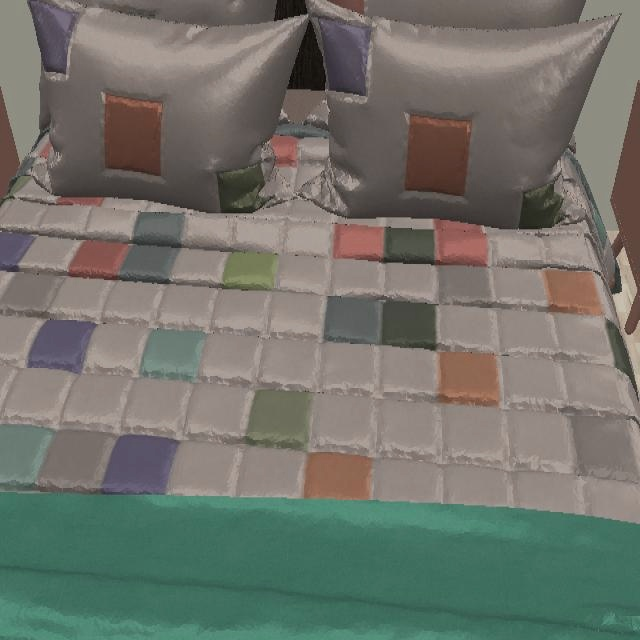pillow: (25, 0, 537, 245)
